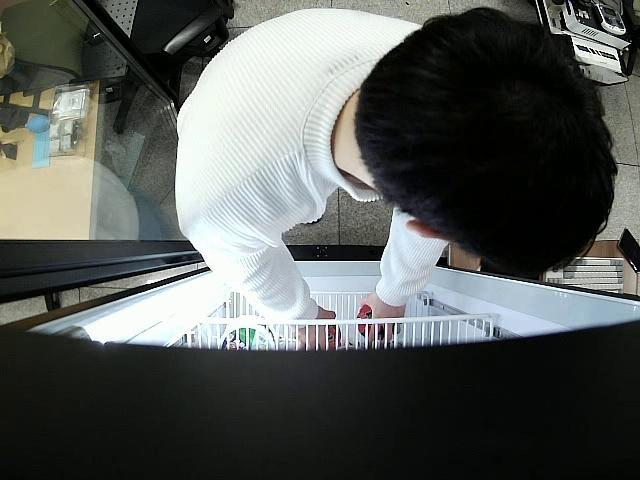02_shinRamen_S: (356, 306, 394, 342), (324, 320, 342, 350)
